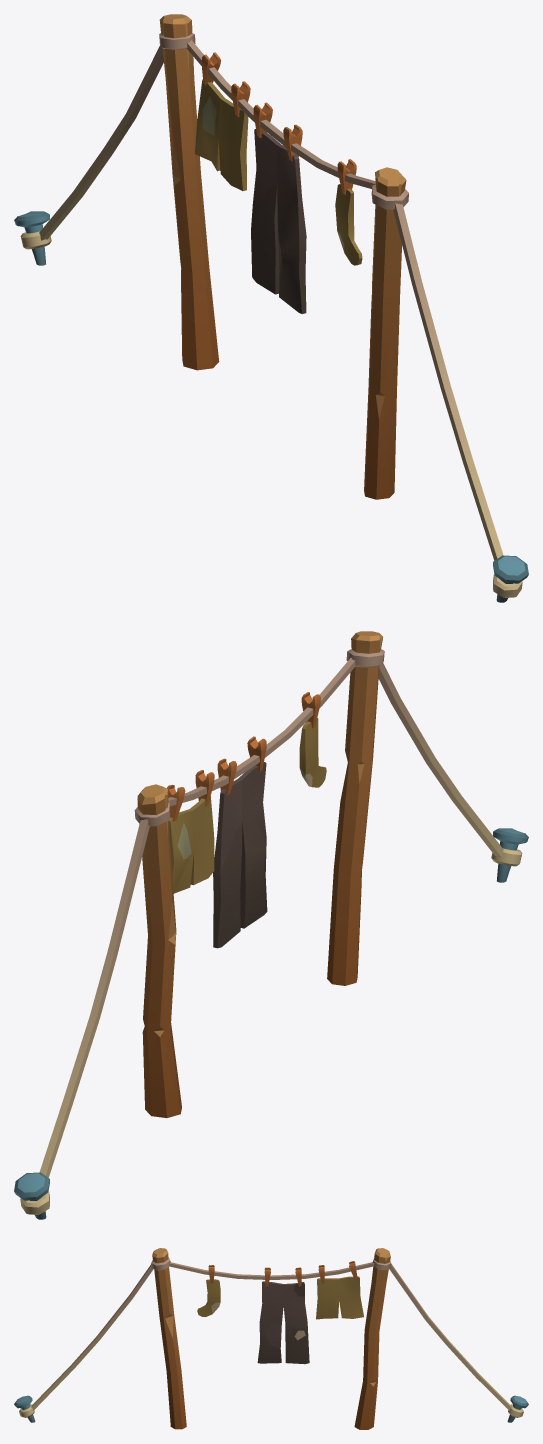
Rendered from Laundry_C.glb.
The picture shows the model from 3 angles, top to bottom: view 1: azimuth 30°, elevation 25°; view 2: azimuth 150°, elevation 25°; view 3: azimuth 270°, elevation 25°; orthographic projection. The views are drawn at different scales.
Visible parts, largest first — view 1: Laundry_C; view 2: Laundry_C; view 3: Laundry_C.
Boxes of the visible parts, x1,y1,x2,y2 form: Laundry_C: (14, 14, 528, 602); Laundry_C: (14, 631, 528, 1219); Laundry_C: (14, 1248, 528, 1429).
Size of the model in its own units: 0.236 by 1.54 by 4.13.
Materials: 2 (2 with a texture image).
